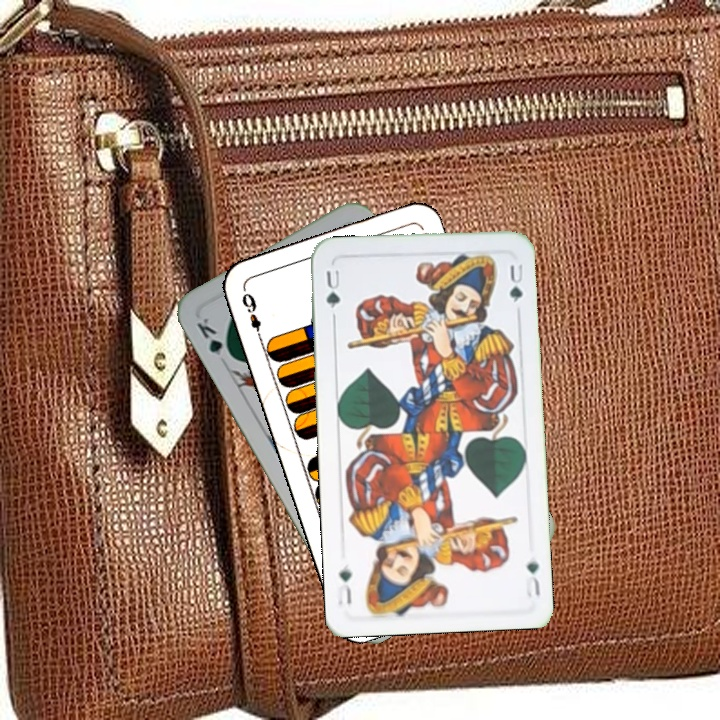E9: (237, 286, 265, 343)
GK: (192, 313, 236, 362)
GU: (322, 266, 342, 311), (522, 557, 542, 600)
